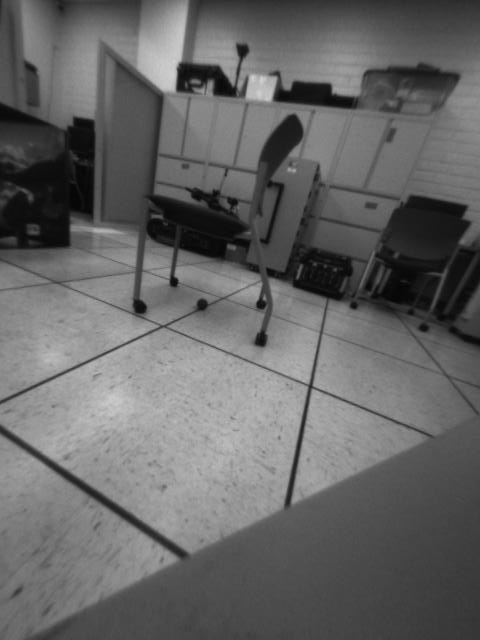dogtoy: (193, 290, 213, 316)
